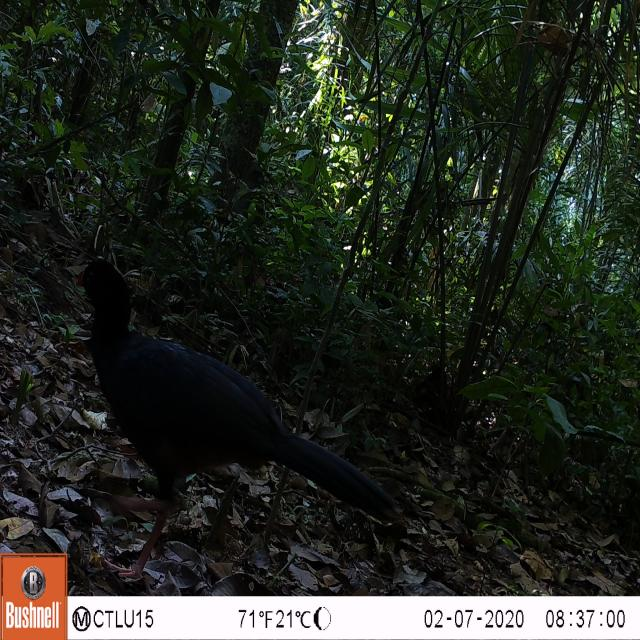Salvins Curassow: (61, 225, 405, 574)
